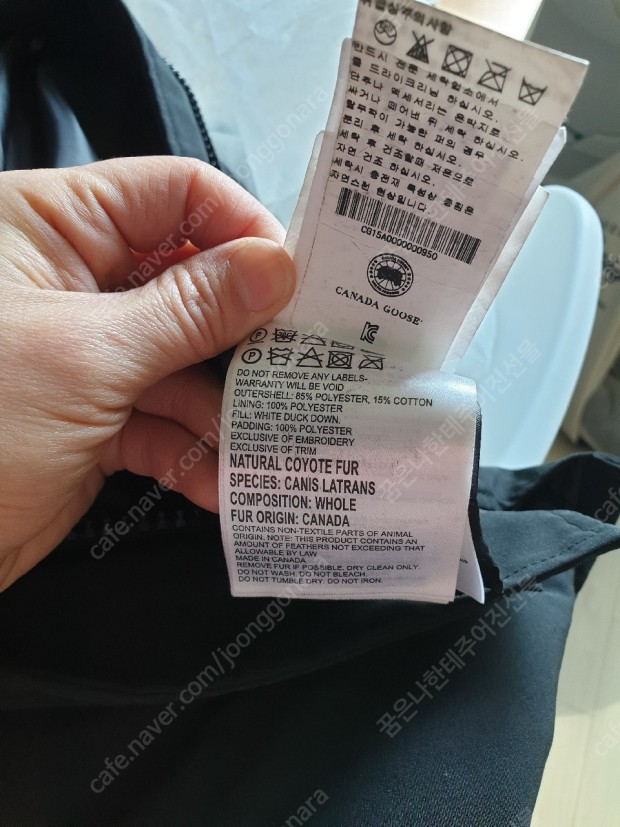KR_dry_clean: (372, 17, 399, 47)
KR_no_iron: (476, 58, 510, 92)
KR_no_tumble_dry: (441, 44, 475, 78)
KR_no_wash: (518, 75, 547, 108)
